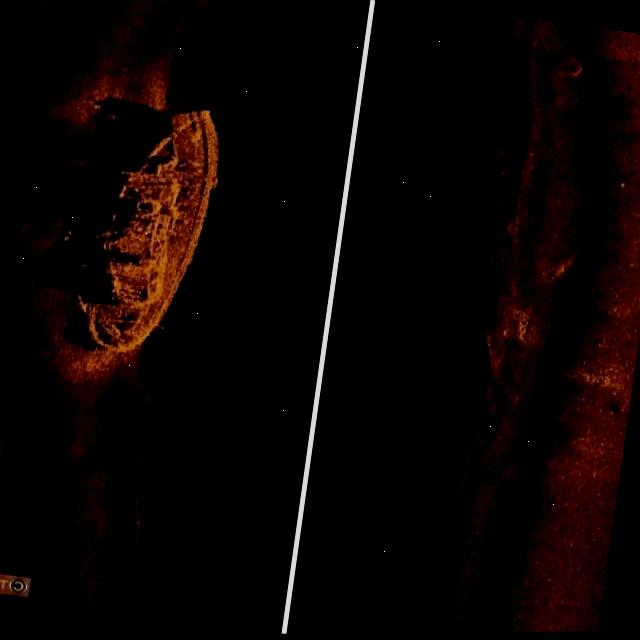shipwreck: (60, 85, 236, 367)
